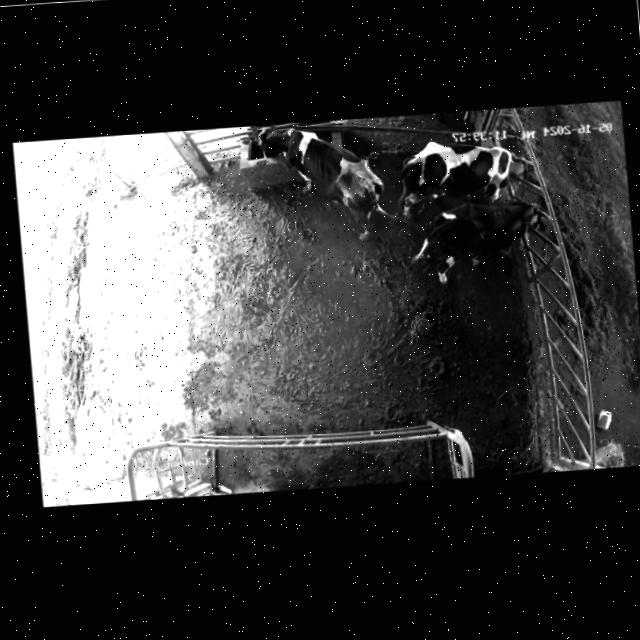drink: (236, 122, 305, 185)
eat: (487, 185, 588, 252), (470, 145, 570, 192)
